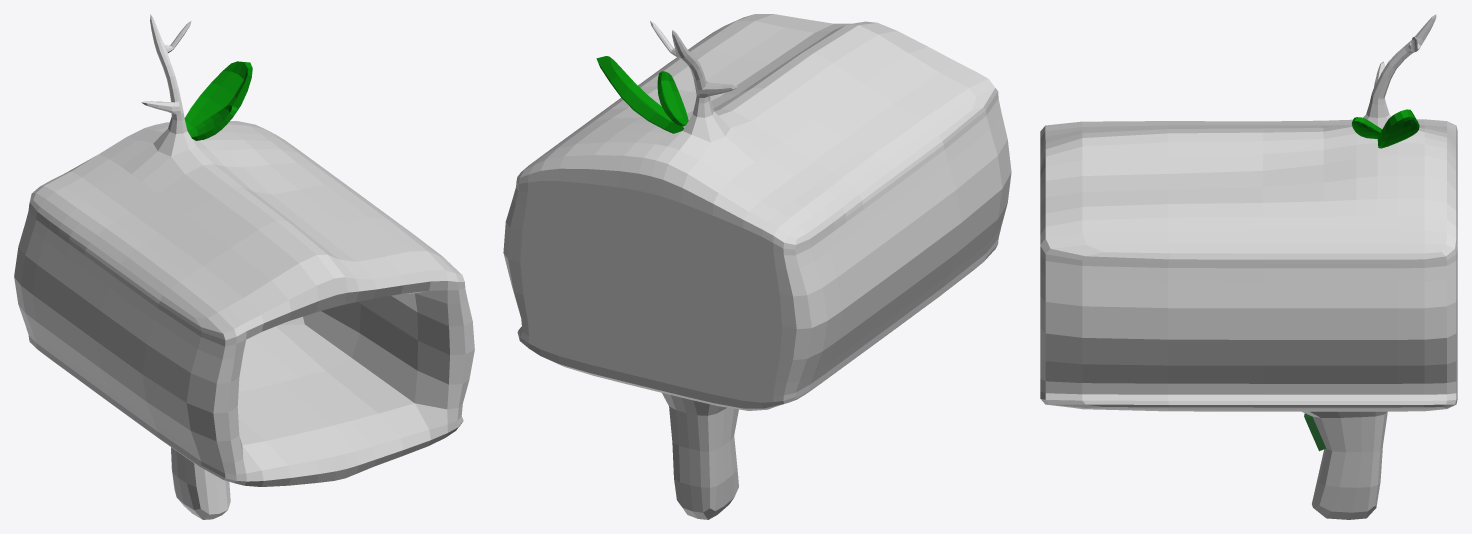
The model's file is AppleGun.fbx.
3 views of the same model, side by side, from view 1: azimuth 30°, elevation 25°; view 2: azimuth 150°, elevation 25°; view 3: azimuth 270°, elevation 25° (orthographic). The views are drawn at different scales.
Parts seen in each view (by area): view 1: AppleShot, leaf, leaf.001; view 2: AppleShot, leaf, leaf.001; view 3: AppleShot, leaf.
Part boxes in pixels (left/top/right/bottom): AppleShot: left=14, top=14, right=474, bottom=519; leaf: left=184, top=61, right=252, bottom=139; leaf.001: left=188, top=105, right=237, bottom=140; AppleShot: left=503, top=14, right=1011, bottom=519; leaf: left=596, top=56, right=683, bottom=133; leaf.001: left=657, top=71, right=688, bottom=126; AppleShot: left=1040, top=14, right=1457, bottom=519; leaf: left=1377, top=109, right=1419, bottom=148.
Bounding box in the file's own units: 111 × 173 × 132.
